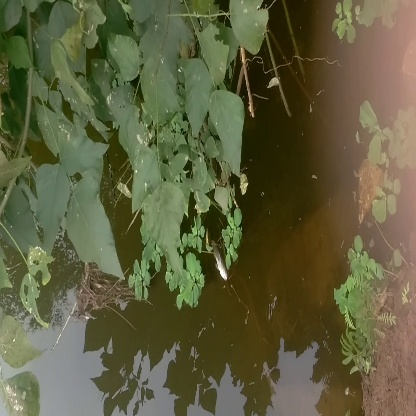grass: (333, 249, 393, 364)
